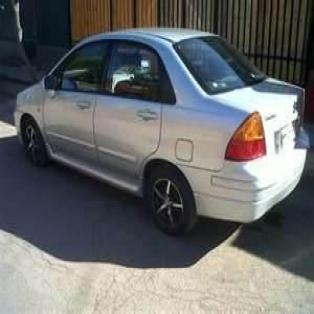Auto: (12, 25, 311, 243)
